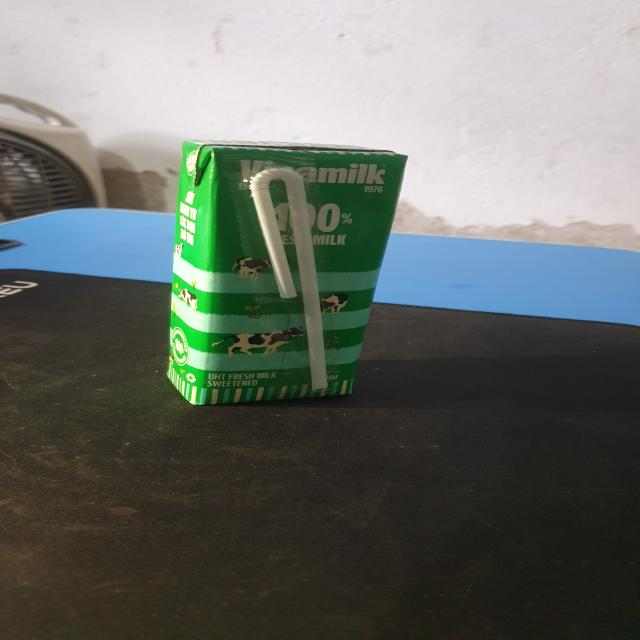Vina: (165, 142, 410, 411)
